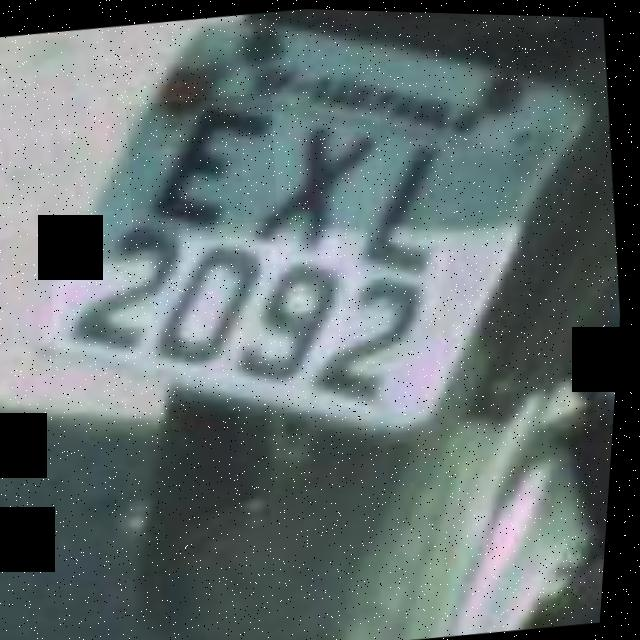0: (132, 212, 284, 377)
2: (282, 242, 460, 411), (42, 199, 208, 366)
3: (120, 87, 287, 235)
9: (221, 233, 358, 385)
K: (233, 96, 399, 268)
